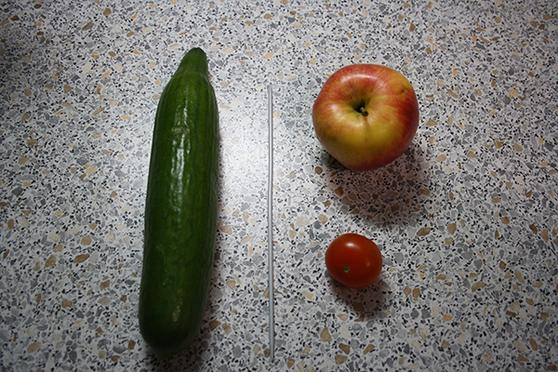cucumber: (136, 44, 224, 350)
tomato: (326, 232, 384, 292)
